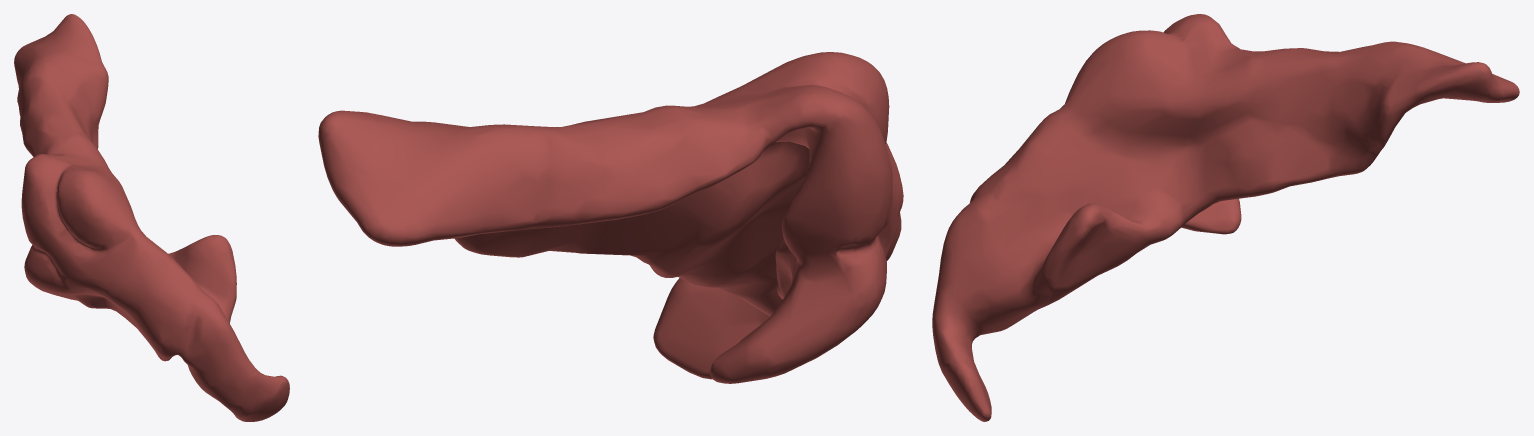
Rendered from FMA72800.glb.
3 renders of one model, left to right at view 1: azimuth 30°, elevation 25°; view 2: azimuth 150°, elevation 25°; view 3: azimuth 270°, elevation 25°, orthographic. The views are drawn at different scales.
Visible parts, largest first — view 1: FMA72800; view 2: FMA72800; view 3: FMA72800.
Boxes of the visible parts, x1,y1,x2,y2 form: FMA72800: (14,14,289,421); FMA72800: (318,52,903,383); FMA72800: (932,14,1519,421).
Bounding box in the file's own units: 0.034 × 0.0463 × 0.0698.
